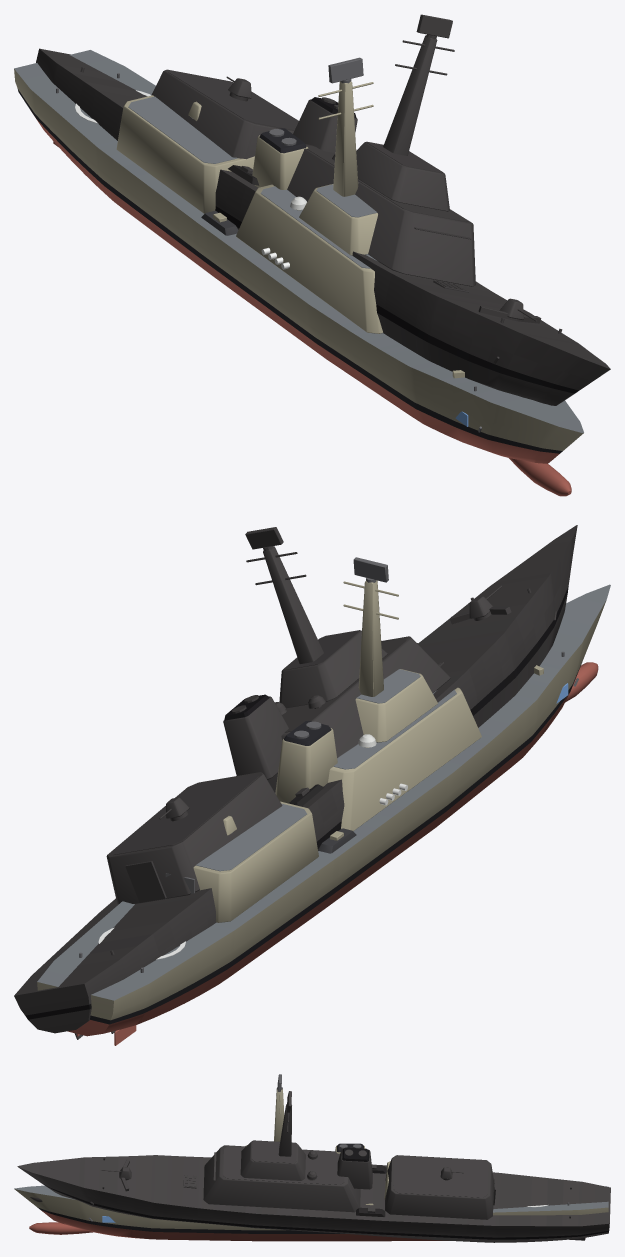
The model's file is asFrigate__martadinata_class.glb.
3 renders of one model, top to bottom at view 1: azimuth 30°, elevation 25°; view 2: azimuth 150°, elevation 25°; view 3: azimuth 270°, elevation 25°, orthographic. The views are drawn at different scales.
Visible parts, largest first — view 1: Hull_Mesh, Wreck, Radar_Mesh; view 2: Hull_Mesh, Wreck, Radar_Mesh; view 3: Wreck, Hull_Mesh.
Part boxes in pixels (<box>): Hull_Mesh: <box>14,50,583,496</box>; Wreck: <box>36,14,610,405</box>; Radar_Mesh: <box>328,57,363,83</box>; Hull_Mesh: <box>37,580,610,1045</box>; Wreck: <box>14,525,577,1039</box>; Radar_Mesh: <box>353,557,388,582</box>; Wreck: <box>17,1091,610,1242</box>; Hull_Mesh: <box>14,1088,608,1241</box>.
Size of what is drawn, in the model's own units: 20.83 by 34.14 by 110.
